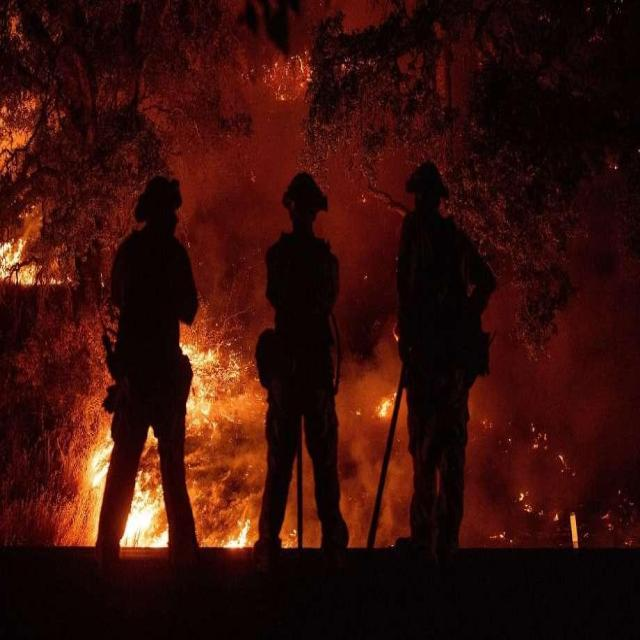Fire: (177, 338, 258, 433), (119, 468, 170, 550), (86, 426, 112, 542), (258, 48, 312, 103), (0, 236, 42, 288), (220, 520, 252, 550), (374, 390, 397, 420), (530, 424, 548, 452), (517, 488, 535, 514), (488, 528, 507, 542)
Smoke: (168, 89, 416, 548), (458, 283, 640, 546)
